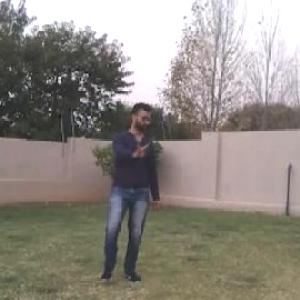takeoff-hand: (130, 134, 152, 162)
